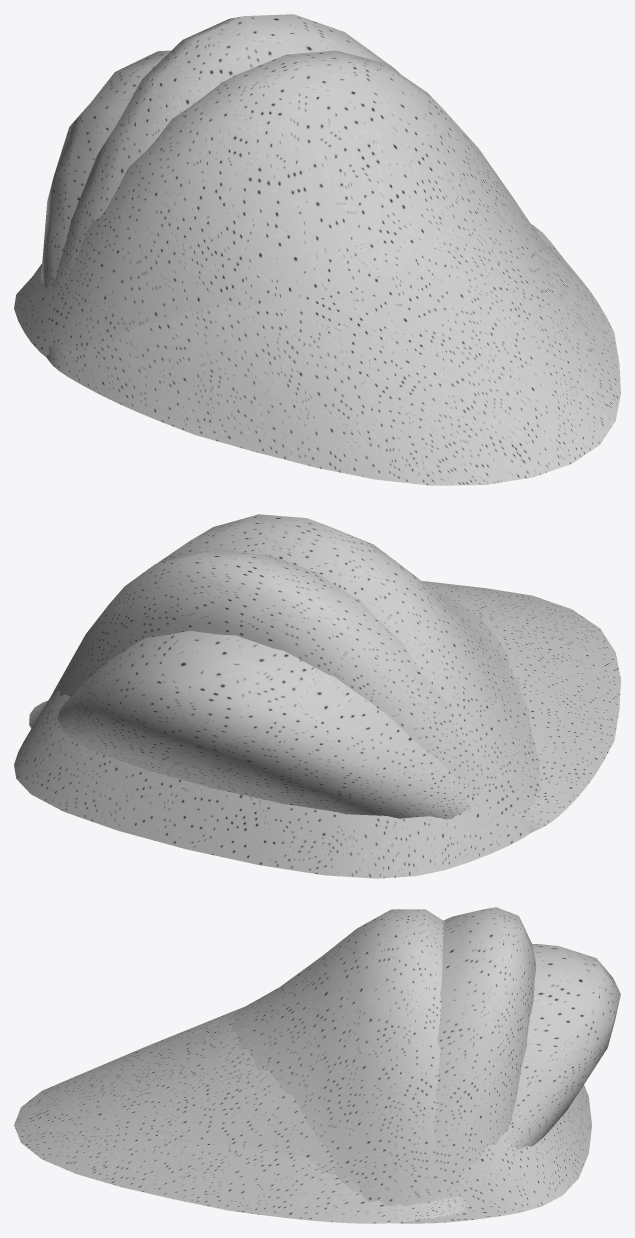
The model's file is diceLegionMesh.fbx.
The picture shows the model from 3 angles, top to bottom: view 1: azimuth 30°, elevation 25°; view 2: azimuth 150°, elevation 25°; view 3: azimuth 270°, elevation 25°; orthographic projection. The views are drawn at different scales.
Visible parts, largest first — view 1: DiceMound0, DiceMound2, DiceMound1; view 2: DiceMound2, DiceMound0, DiceMound1; view 3: DiceMound0, DiceMound1, DiceMound2.
Part boxes in pixels (bbox=[...]): DiceMound0: bbox=[14, 50, 618, 360]; DiceMound2: bbox=[41, 50, 620, 485]; DiceMound1: bbox=[49, 14, 614, 476]; DiceMound2: bbox=[29, 581, 620, 832]; DiceMound0: bbox=[14, 514, 540, 878]; DiceMound1: bbox=[51, 549, 523, 814]; DiceMound0: bbox=[179, 909, 591, 1223]; DiceMound1: bbox=[15, 907, 536, 1204]; DiceMound2: bbox=[14, 944, 620, 1223].
Bounding box in the file's own units: 400 × 190 × 507.
